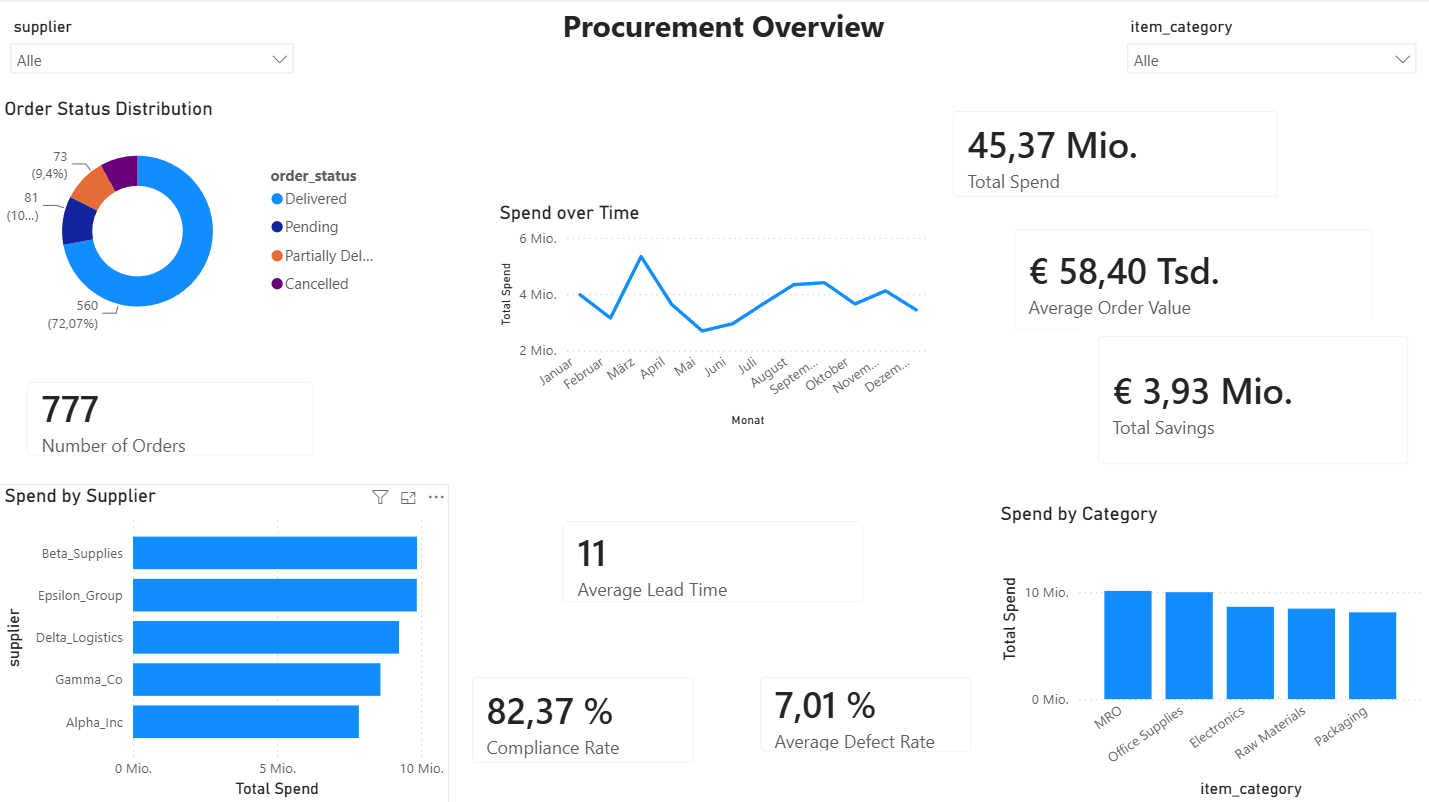

The dashboard page shown, as its layout file describes it:
{"tool":"powerbi","page":{"name":"Procurement Overview","canvas":[1280,720],"ordinal":0},"visuals":[{"type":"textbox","box":[499.7,0,329.6,58.2],"z":1},{"type":"cardVisual","fields":{"Data":["procurement_cleaned.Number of Orders"]},"box":[8.1,326,291.9,100.3],"z":2},{"type":"cardVisual","fields":{"Data":["procurement_cleaned.Average Order Value"]},"box":[891.9,189,355.5,125.4],"z":3},{"type":"cardVisual","fields":{"Data":["procurement_cleaned.Total Savings"]},"box":[967.2,284.8,312.5,149.6],"z":4},{"type":"cardVisual","fields":{"Data":["procurement_cleaned.Compliance Rate"]},"box":[406.6,590.1,233.7,111],"z":5},{"type":"cardVisual","fields":{"Data":["procurement_cleaned.Average Lead Time"]},"box":[488.1,450.4,303.6,107.5],"z":6},{"type":"cardVisual","fields":{"Data":["procurement_cleaned.Average Defect Rate"]},"box":[664.5,590.1,223.9,101.2],"z":7},{"type":"barChart","title":"Spend by Supplier","fields":{"Category":["procurement_cleaned.supplier"],"Y":["procurement_cleaned.Total Spend"]},"box":[0,434.3,403,285.7],"z":8},{"type":"columnChart","title":"Spend by Category","fields":{"Category":["procurement_cleaned.item_category"],"Y":["procurement_cleaned.Total Spend"]},"box":[891.9,450.4,387.8,269.6],"z":9},{"type":"lineChart","title":"Spend over Time","fields":{"Category":["procurement_cleaned.year_month.Variation.Datumshierarchie.Jahr","procurement_cleaned.year_month.Variation.Datumshierarchie.Quartal","procurement_cleaned.year_month.Variation.Datumshierarchie.Monat","procurement_cleaned.year_month.Variation.Datumshierarchie.Tag"],"Y":["procurement_cleaned.Total Spend"]},"box":[443.3,180.9,394,206.9],"z":10},{"type":"donutChart","title":"Order Status Distribution","fields":{"Y":["procurement_cleaned.Number of Orders"],"Category":["procurement_cleaned.order_status"]},"box":[0,87.8,351,221.2],"z":11},{"type":"slicer","fields":{"Values":["procurement_cleaned.supplier"]},"box":[0,11.6,274,71.6],"z":12},{"type":"slicer","fields":{"Values":["procurement_cleaned.item_category"]},"box":[1000.3,11.6,279.4,81.5],"z":13},{"type":"cardVisual","fields":{"Data":["procurement_cleaned.Total Spend"]},"box":[837.3,83.3,325.1,111],"z":14}]}

Visuals, with their boxes in screenshot pixels (x1, y1, x2, y2), scaled from the page's 1280x720 canvas onto the 1429x802 screenshot:
textbox: (558,0,926,65)
cardVisual - procurement_cleaned.Number of Orders: (9,363,335,475)
cardVisual - procurement_cleaned.Average Order Value: (996,211,1393,350)
cardVisual - procurement_cleaned.Total Savings: (1080,317,1428,484)
cardVisual - procurement_cleaned.Compliance Rate: (454,657,715,781)
cardVisual - procurement_cleaned.Average Lead Time: (545,502,884,621)
cardVisual - procurement_cleaned.Average Defect Rate: (742,657,992,770)
"Spend by Supplier" barChart: (0,484,450,801)
"Spend by Category" columnChart: (996,502,1428,801)
"Spend over Time" lineChart: (495,202,935,432)
"Order Status Distribution" donutChart: (0,98,392,344)
slicer - procurement_cleaned.supplier: (0,13,306,93)
slicer - procurement_cleaned.item_category: (1117,13,1428,104)
cardVisual - procurement_cleaned.Total Spend: (935,93,1298,216)
